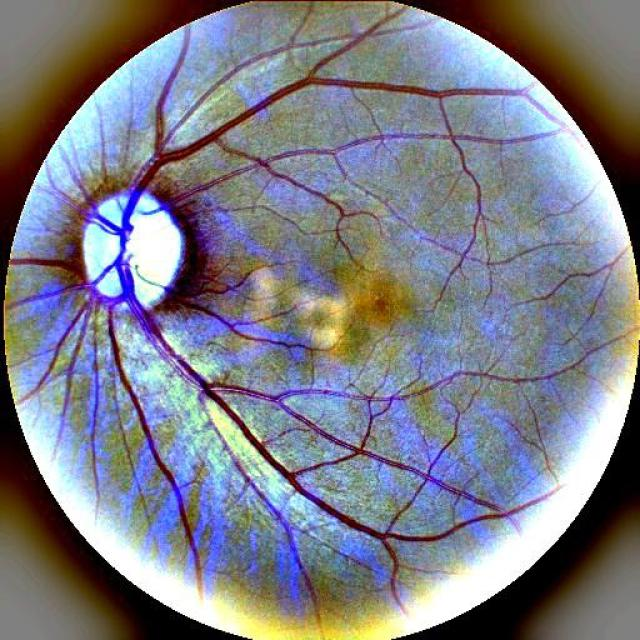Macula: (352, 274, 410, 324)
Nerves: (28, 40, 551, 612)
Optic Disk: (84, 191, 184, 308)
